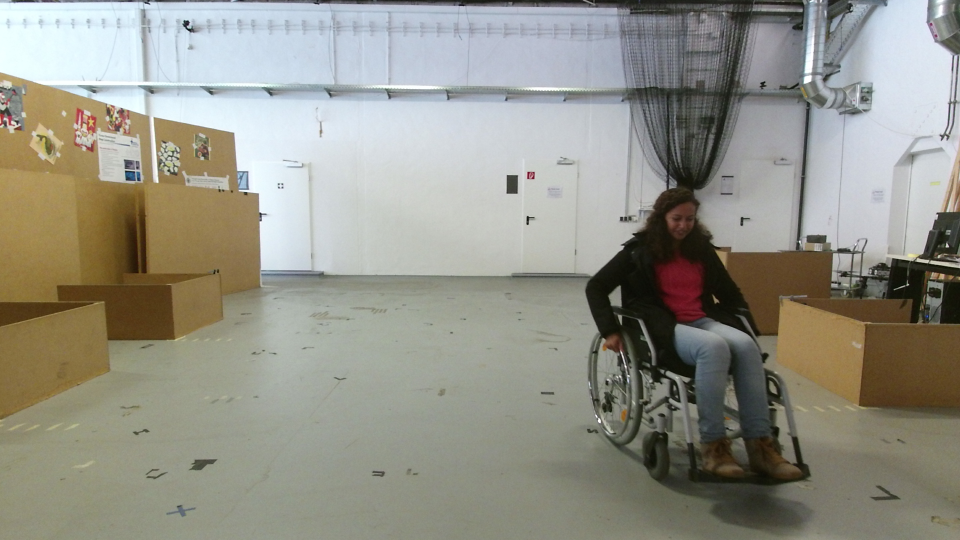wheelchair: (580, 183, 814, 488)
